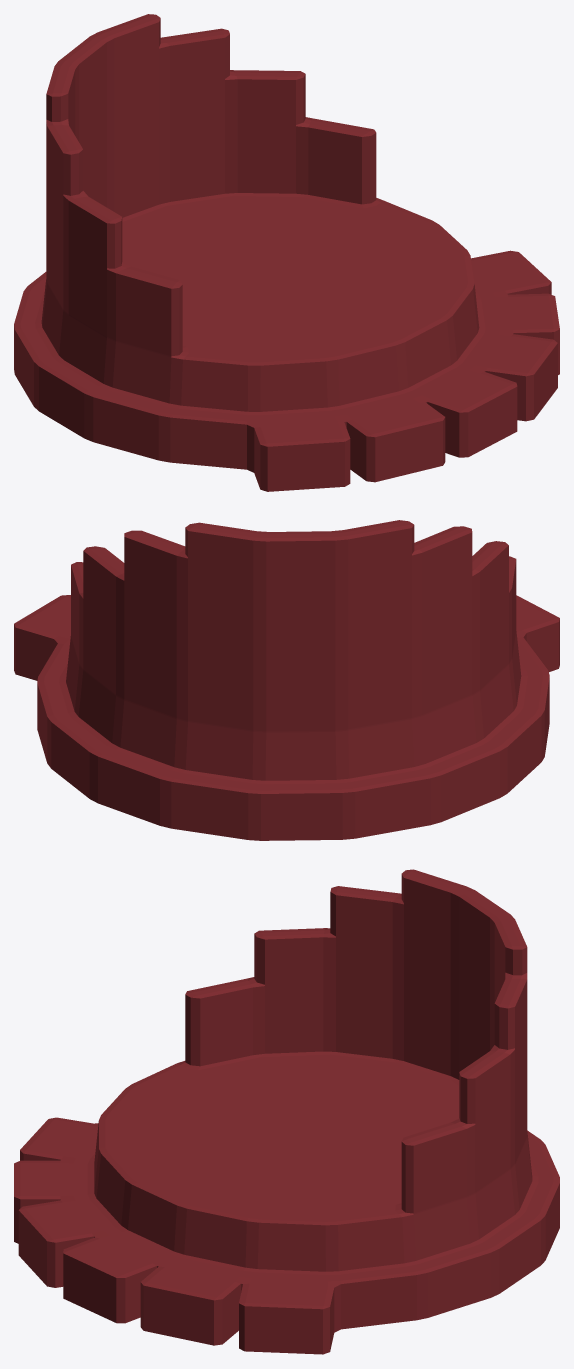
File: Fase0.fbx
The picture shows the model from 3 angles, top to bottom: view 1: azimuth 30°, elevation 25°; view 2: azimuth 150°, elevation 25°; view 3: azimuth 270°, elevation 25°; orthographic projection. The views are drawn at different scales.
Visible parts, largest first — view 1: Fase 0; view 2: Fase 0; view 3: Fase 0.
Part boxes in pixels (box(x1,y1,x2,y2)): Fase 0: box(14, 14, 559, 491); Fase 0: box(14, 520, 559, 840); Fase 0: box(14, 869, 559, 1354).
Size of the model in its own units: 364 by 201 by 359.
